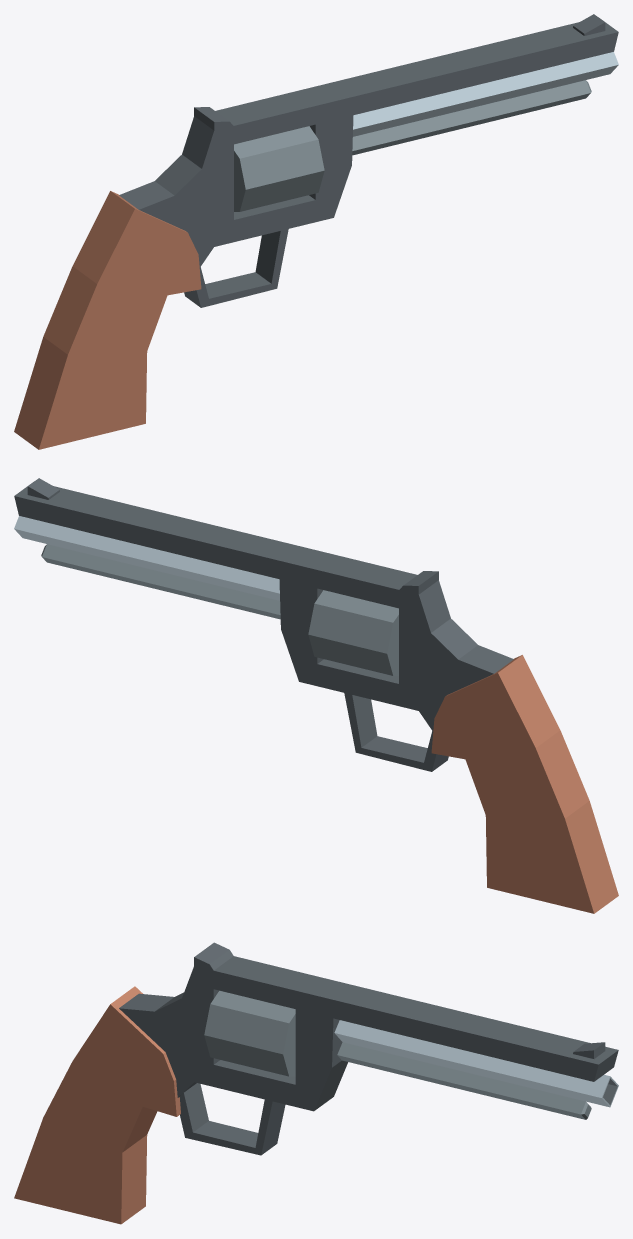
Rendered from revolver-python.glb.
The picture shows the model from 3 angles, top to bottom: view 1: azimuth 30°, elevation 25°; view 2: azimuth 150°, elevation 25°; view 3: azimuth 330°, elevation 25°; orthographic projection.
Visible parts, largest first — view 1: body, revolver; view 2: body, revolver; view 3: body, revolver.
Boxes of the visible parts, left/top/right/bottom form: body: left=14, top=14, right=618, bottom=449; revolver: left=234, top=126, right=324, bottom=211; body: left=14, top=478, right=618, bottom=913; revolver: left=308, top=590, right=398, bottom=675; body: left=14, top=942, right=618, bottom=1224; revolver: left=204, top=990, right=295, bottom=1076.
Size of the model in its own units: 0.2487 by 0.1151 by 0.0307.
